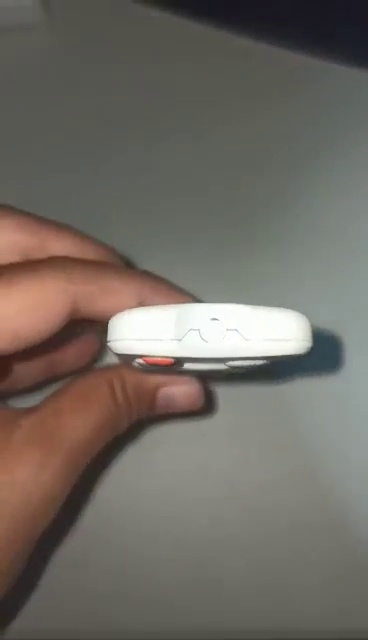remote: (105, 301, 315, 373)
